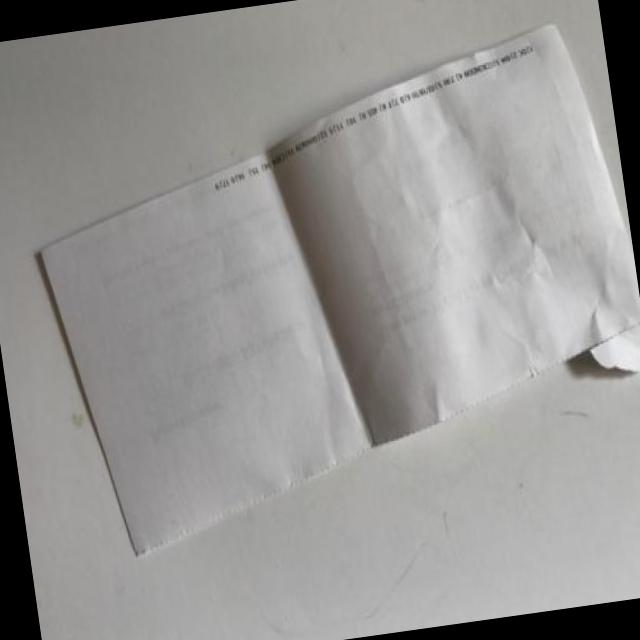giay: (36, 23, 640, 556)
